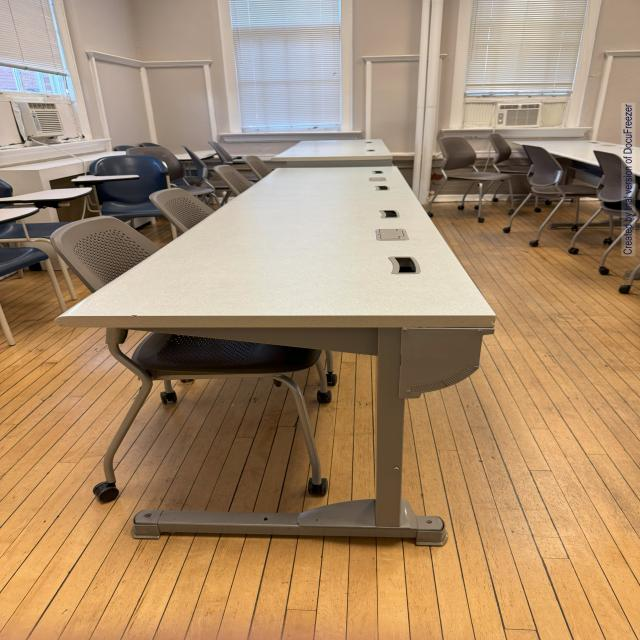Table: (93, 164, 500, 572)
